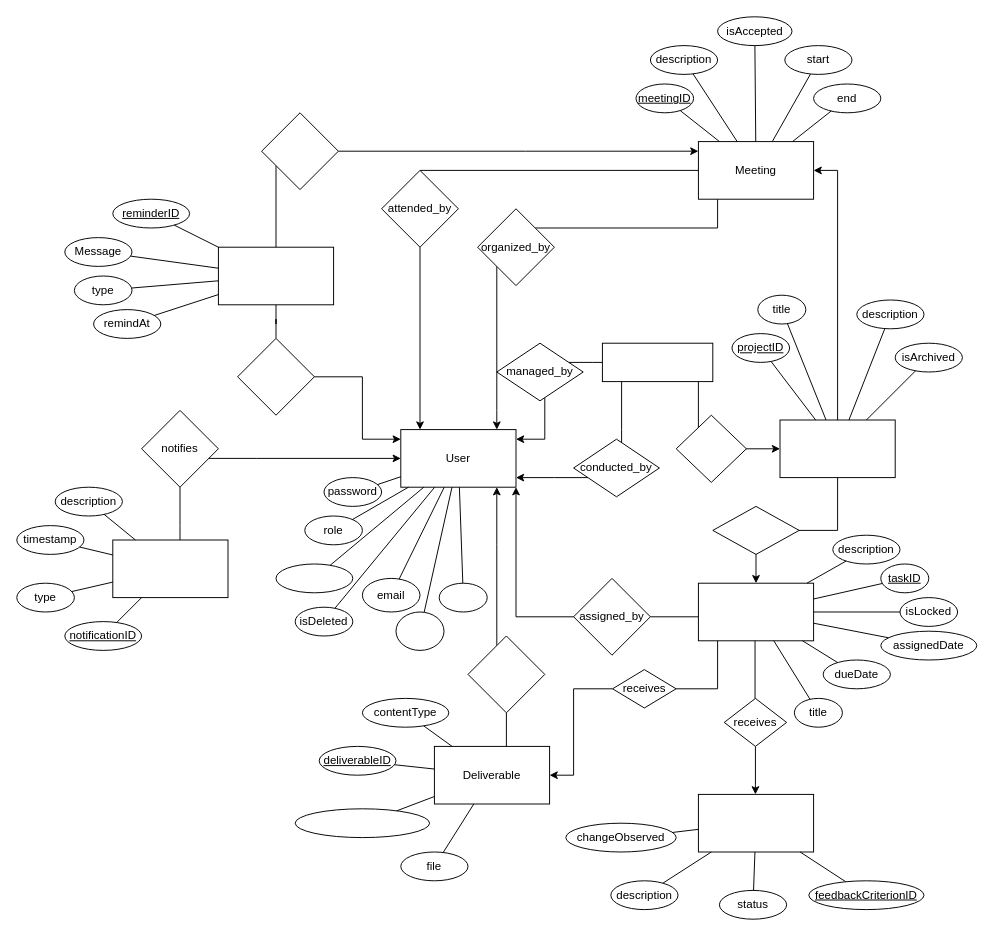
The diagram is 994 pixels wide and 936 high, and some of its shapes have lost their labels. Here are the shapes that lost their labels. From the top down, the centre of each, then its label:
At (299,151): "references".
At (275,275): "Reminder".
At (275,376): "reminds".
At (657,362): "ProjectAssignment".
At (710,448): "included_by".
At (837,448): "Project".
At (755,529): "consists _of".
At (170,568): "Notifcation".
At (314,578): "refreshToken".
At (462,597): "userID".
At (755,611): "Task".
At (419,630): "name".
At (506,674): "belongs_to".
At (362,823): "submissionTimestamp".
At (755,822): "FeedbackCriterion".
